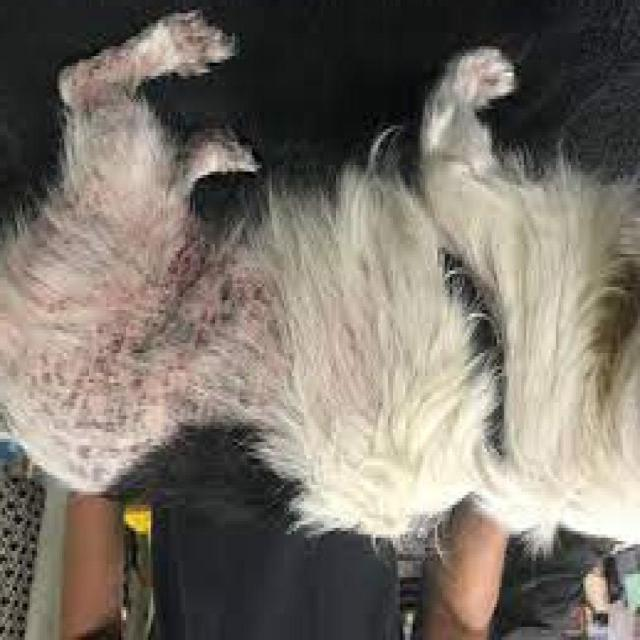allergic dermatitis: (67, 261, 315, 446)
